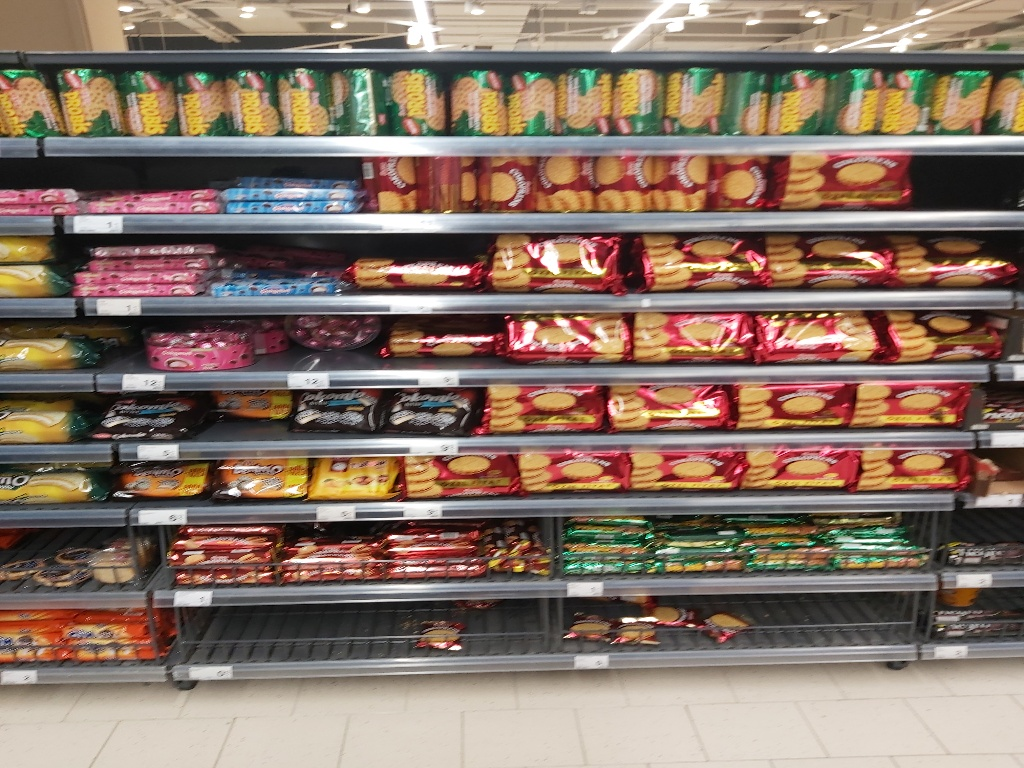urun: (771, 152, 924, 211), (485, 234, 630, 292), (760, 230, 905, 288), (609, 370, 742, 433), (723, 372, 856, 435), (856, 372, 989, 435), (477, 378, 611, 440), (623, 232, 768, 289), (116, 317, 247, 379), (893, 227, 1024, 288), (492, 312, 635, 364), (750, 312, 887, 366), (887, 307, 1024, 361), (623, 314, 767, 365), (739, 447, 867, 497), (856, 443, 984, 493), (378, 321, 500, 371), (399, 448, 522, 497), (338, 250, 490, 289), (515, 447, 637, 495), (1, 319, 110, 370), (1, 460, 111, 508), (631, 448, 748, 492), (212, 453, 314, 503), (111, 457, 212, 507), (306, 453, 407, 503), (321, 63, 383, 140), (221, 65, 282, 142), (390, 56, 451, 133), (605, 59, 666, 136), (58, 61, 118, 138), (115, 64, 175, 141), (169, 63, 229, 140), (499, 61, 559, 138), (659, 61, 719, 138), (265, 58, 325, 134), (444, 58, 504, 134), (558, 58, 618, 134), (1, 393, 83, 448), (777, 60, 831, 138), (936, 64, 996, 134), (721, 59, 774, 137), (385, 389, 476, 434), (64, 262, 214, 288), (882, 63, 932, 140), (169, 531, 287, 563), (375, 525, 493, 557), (196, 273, 346, 298), (835, 58, 884, 134), (356, 156, 419, 215), (417, 152, 480, 211), (476, 151, 539, 210), (595, 155, 658, 214), (655, 151, 718, 210), (717, 148, 780, 207), (538, 152, 600, 211), (215, 197, 366, 215), (559, 534, 655, 562), (806, 508, 902, 536), (91, 404, 189, 431), (278, 397, 376, 424), (690, 609, 755, 648), (87, 541, 143, 586), (407, 618, 481, 649), (1, 182, 76, 210), (220, 184, 351, 200), (659, 529, 735, 556), (739, 526, 814, 553), (97, 186, 228, 201), (1, 550, 47, 585)
urun2: (1, 64, 52, 141)
